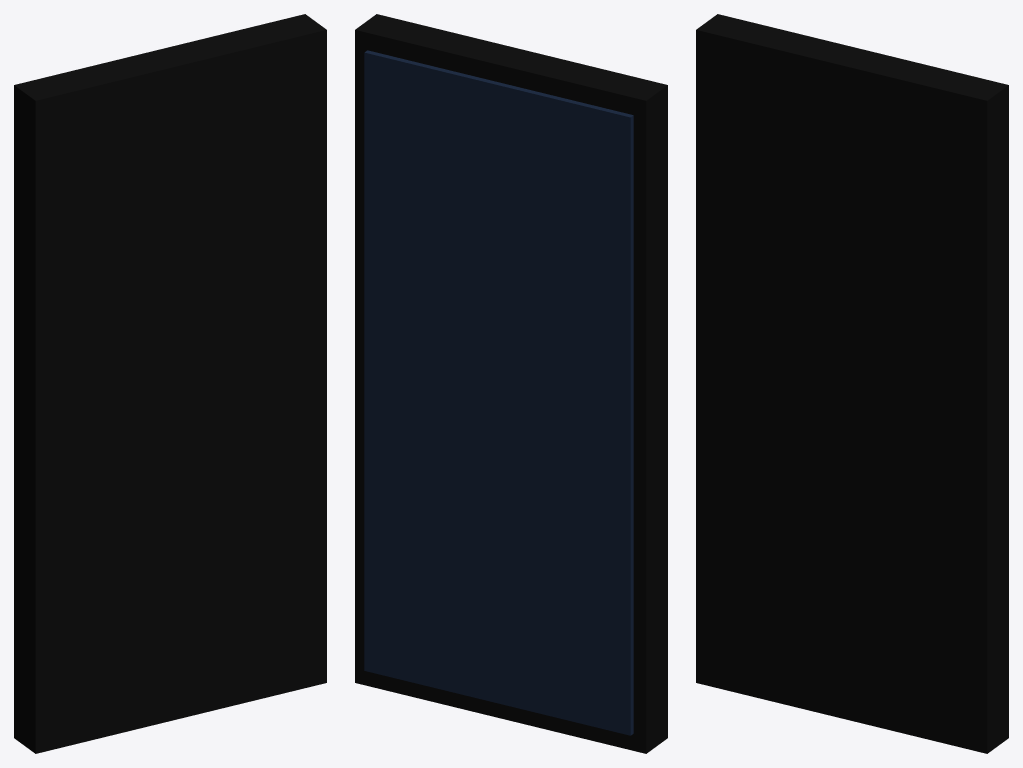
The model's file is phone.glb.
3 views of the same model, side by side, from view 1: azimuth 30°, elevation 25°; view 2: azimuth 150°, elevation 25°; view 3: azimuth 330°, elevation 25° (orthographic).
Parts seen in each view (by area): view 1: phone; view 2: phone; view 3: phone.
Boxes of the visible parts, x1,y1,x2,y2 form: phone: [14, 14, 326, 753]; phone: [355, 14, 667, 753]; phone: [696, 14, 1008, 753].
Bounding box in the file's own units: 0.07 × 0.15 × 0.0103.
